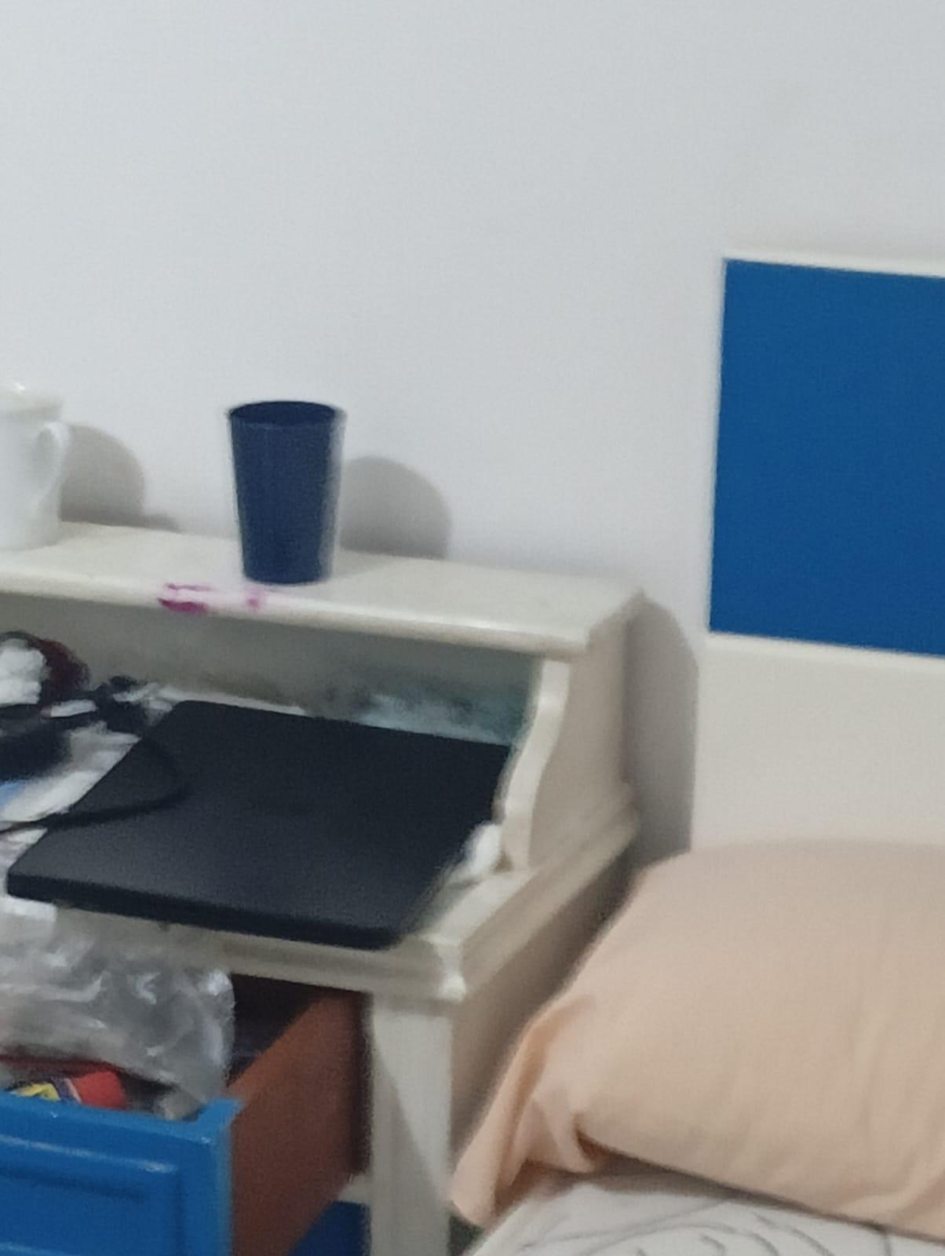cup: (228, 401, 344, 584), (0, 385, 70, 550)
